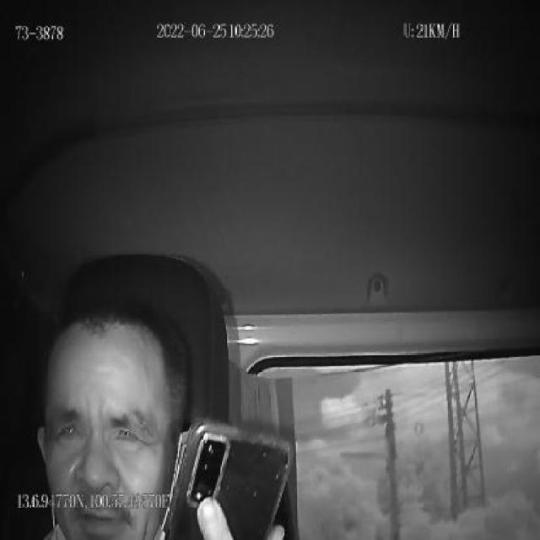phone: (164, 417, 294, 540)
